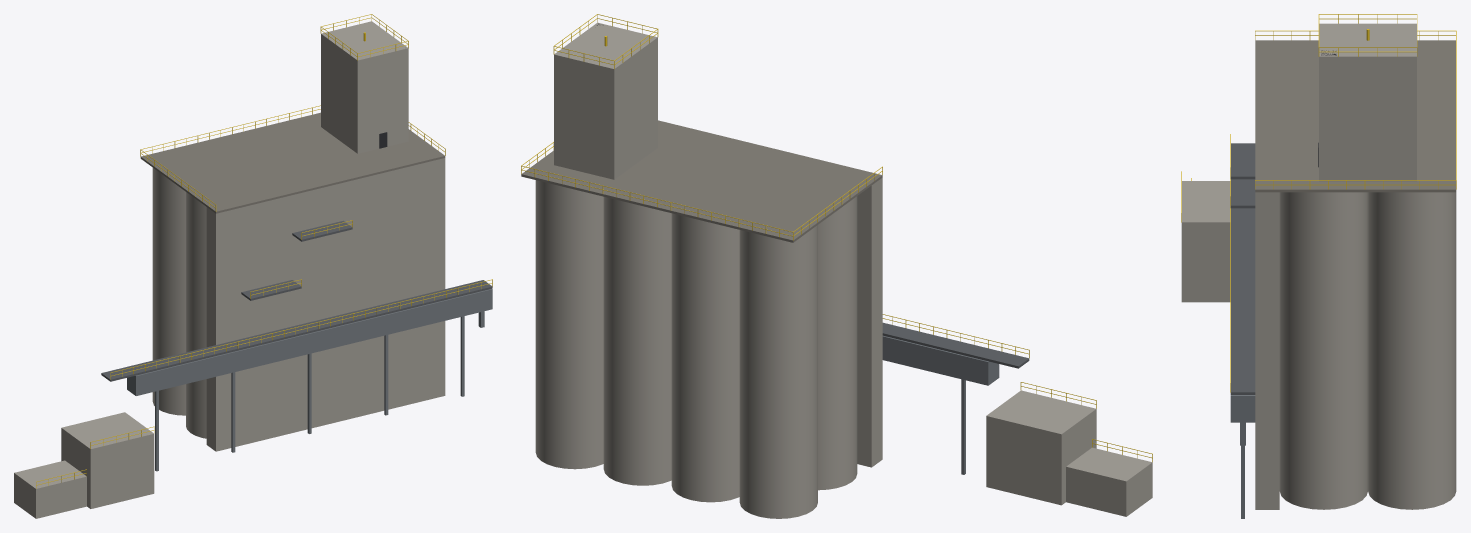
File: tf_grain_elevator_tw3.glb
3 views of the same model, side by side, from view 1: azimuth 30°, elevation 25°; view 2: azimuth 150°, elevation 25°; view 3: azimuth 270°, elevation 25° (orthographic). The views are drawn at different scales.
Parts seen in each view (by area): view 1: tf_grain_elevator_tw3; view 2: tf_grain_elevator_tw3; view 3: tf_grain_elevator_tw3.
Boxes of the visible parts, x1=… form: tf_grain_elevator_tw3: x1=14, y1=14, x2=492, y2=518; tf_grain_elevator_tw3: x1=521, y1=14, x2=1152, y2=518; tf_grain_elevator_tw3: x1=1181, y1=14, x2=1456, y2=518.
Size of what is drawn, in the model's own units: 74.05 by 51.2 by 28.05.
